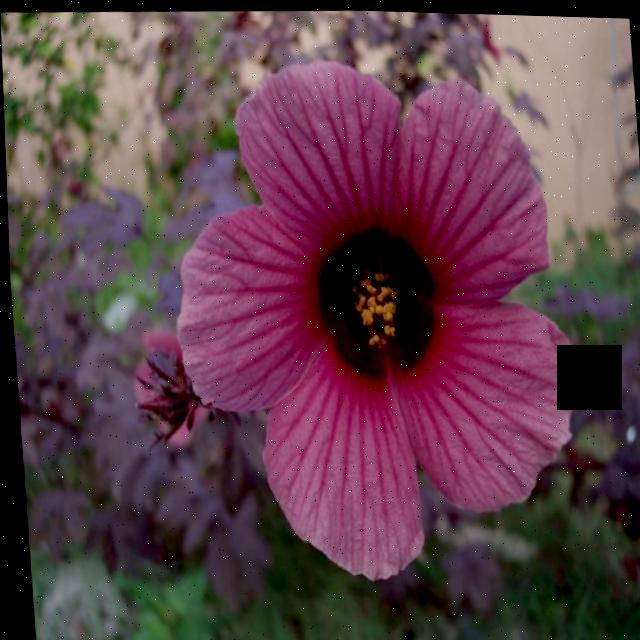hibiscus: (114, 33, 579, 640)
